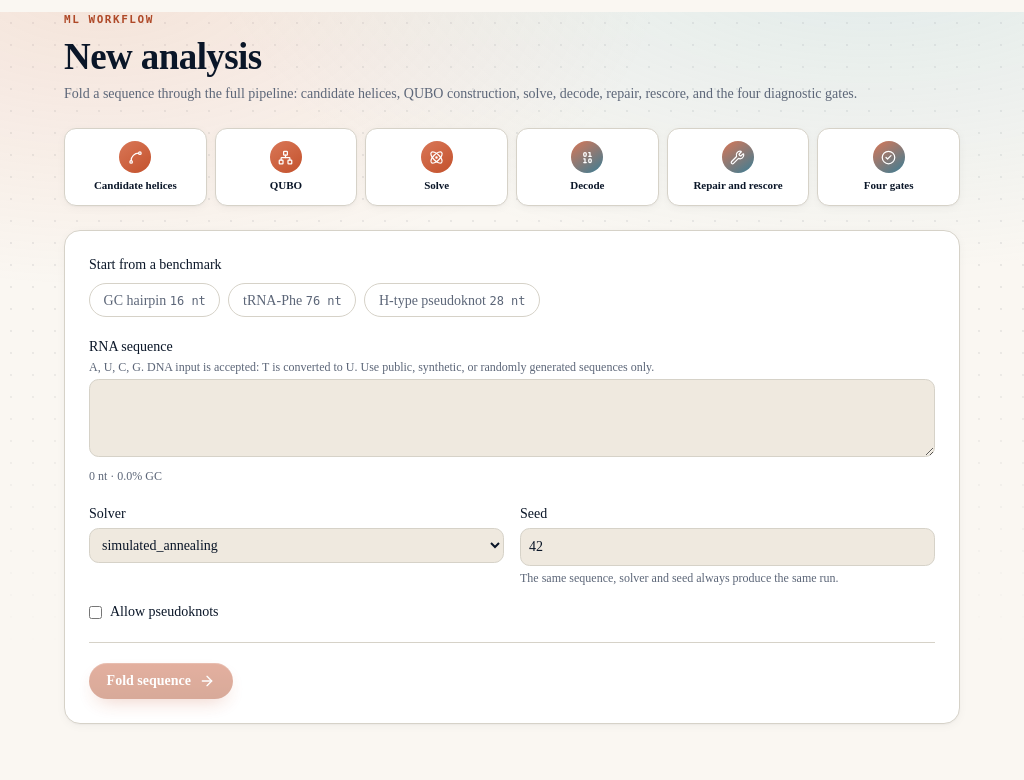
Test: analysis wizard › surfaces a backend error instead of failing silently
Type "GGGAAAUCCCU" into the text box labelled "RNA sequence" at point(512, 418), box [89,379,935,457]
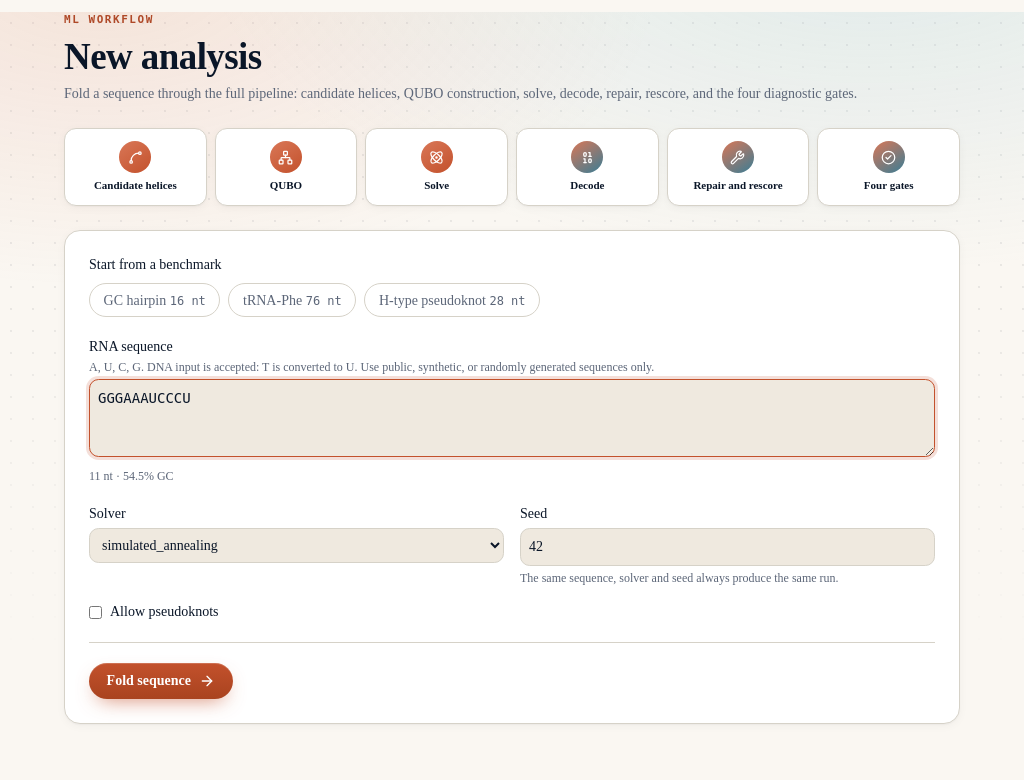
Click the button "Fold sequence" at point(161, 681), box [89,663,233,699]
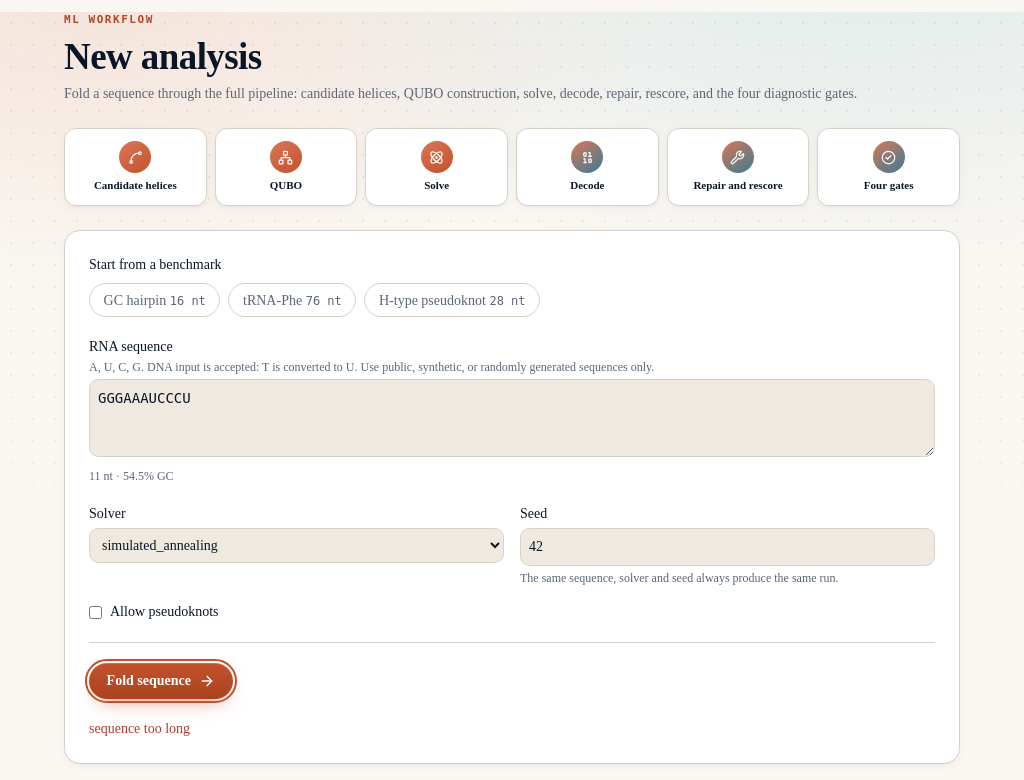
Check: the message reads "sequence too long", box [89,721,190,736]
